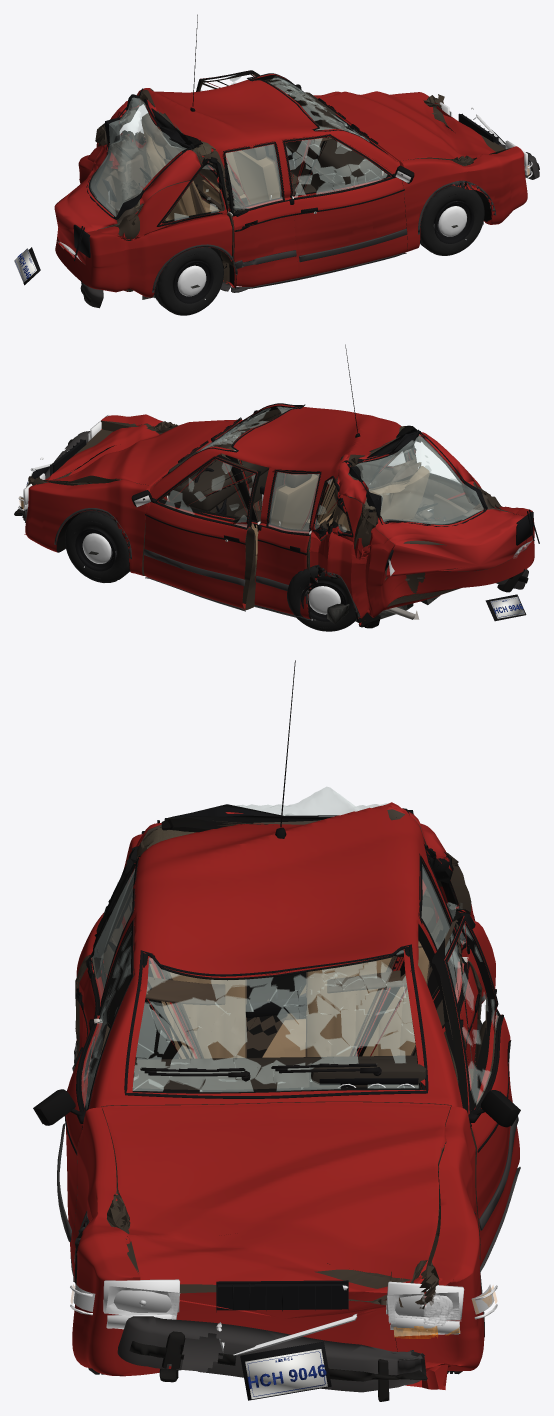
File: hatchback85_rear_corner_d2_lod1.glb
3 renders of one model, top to bottom at view 1: azimuth 30°, elevation 25°; view 2: azimuth 150°, elevation 25°; view 3: azimuth 270°, elevation 25°, orthographic. The views are drawn at different scales.
Visible parts, largest first — view 1: Body, Interior, Door_FR, Hood, Glass_Hatch, Hatch, Door_RR, Wheel_FR_mesh, Wheel_RR_mesh, Glass_RR, Glass_FR, Trim_FR (+6 smaller); view 2: Body, Hatch, Interior, Door_FL, Glass_Hatch, Hood, Door_RL, Wheel_FL_mesh, Wheel_RL_mesh, Glass_RL, Ends, Trim_FL (+7 smaller); view 3: Body, Hood, Glass, Interior, Ends, Bumper_F, Door_FL, Trim_FL, Door_FR, Trim, Trim_FR, Glass_Hatch (+9 smaller).
Boxes of the visible parts, left/top/right/bottom form: Body: left=55, top=74, right=527, bottom=297; Interior: left=105, top=81, right=381, bottom=221; Door_FR: left=282, top=134, right=407, bottom=277; Hood: left=315, top=91, right=495, bottom=162; Glass_Hatch: left=86, top=88, right=191, bottom=219; Hatch: left=54, top=88, right=200, bottom=264; Door_RR: left=223, top=141, right=298, bottom=288; Wheel_FR_mesh: left=420, top=185, right=484, bottom=255; Wheel_RR_mesh: left=154, top=247, right=223, bottom=315; Glass_RR: left=223, top=144, right=284, bottom=216; Glass_FR: left=282, top=136, right=390, bottom=198; Trim_FR: left=283, top=134, right=414, bottom=280; Body: left=24, top=404, right=534, bottom=628; Hatch: left=337, top=428, right=526, bottom=577; Interior: left=167, top=411, right=467, bottom=581; Door_FL: left=143, top=455, right=261, bottom=610; Glass_Hatch: left=342, top=429, right=487, bottom=526; Hood: left=43, top=421, right=238, bottom=486; Door_RL: left=254, top=469, right=321, bottom=618; Wheel_FL_mesh: left=65, top=510, right=129, bottom=582; Wheel_RL_mesh: left=287, top=565, right=356, bottom=631; Glass_RL: left=266, top=472, right=319, bottom=533; Ends: left=18, top=415, right=539, bottom=621; Trim_FL: left=131, top=456, right=257, bottom=611; Body: left=72, top=802, right=495, bottom=1389; Hood: left=101, top=1102, right=451, bottom=1301; Glass: left=95, top=846, right=475, bottom=1098; Interior: left=133, top=941, right=430, bottom=1089; Ends: left=70, top=820, right=497, bottom=1400; Bumper_F: left=117, top=1316, right=427, bottom=1401; Door_FL: left=432, top=915, right=519, bottom=1266; Trim_FL: left=445, top=916, right=520, bottom=1271; Door_FR: left=65, top=918, right=134, bottom=1268; Trim: left=74, top=660, right=496, bottom=1337; Trim_FR: left=33, top=920, right=133, bottom=1282; Glass_Hatch: left=164, top=787, right=413, bottom=820.
Bounding box in the file's own units: 4.4 × 2.2 × 1.92.
Materials: 33 (5 with a texture image).
